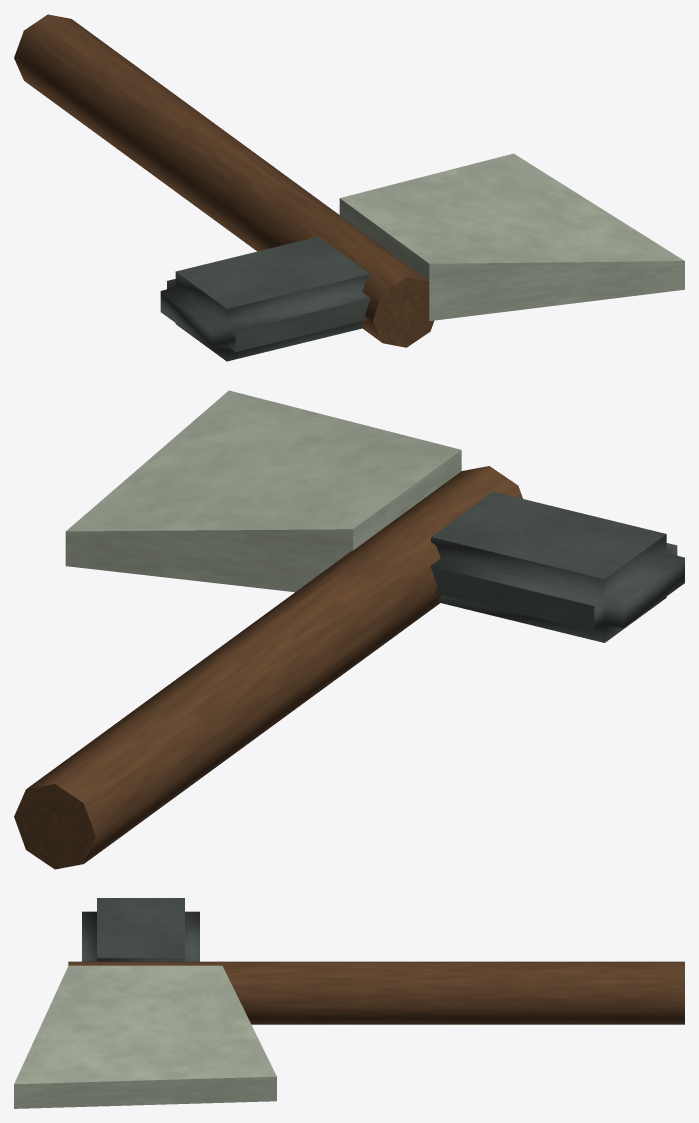
The model's file is item-Battleaxe.fbx.
3 views of the same model, one above another, from view 1: azimuth 30°, elevation 25°; view 2: azimuth 150°, elevation 25°; view 3: azimuth 270°, elevation 25° (orthographic). The views are drawn at different scales.
Parts seen in each view (by area): view 1: item-Battleaxe__Geometry; view 2: item-Battleaxe__Geometry; view 3: item-Battleaxe__Geometry.
Boxes of the visible parts, bbox=[...] form: item-Battleaxe__Geometry: bbox=[14, 14, 684, 361]; item-Battleaxe__Geometry: bbox=[14, 390, 684, 869]; item-Battleaxe__Geometry: bbox=[14, 898, 684, 1108].
Size of the model in its own units: 0.465 by 0.082 by 0.74.
Materials: 1 (1 with a texture image).
